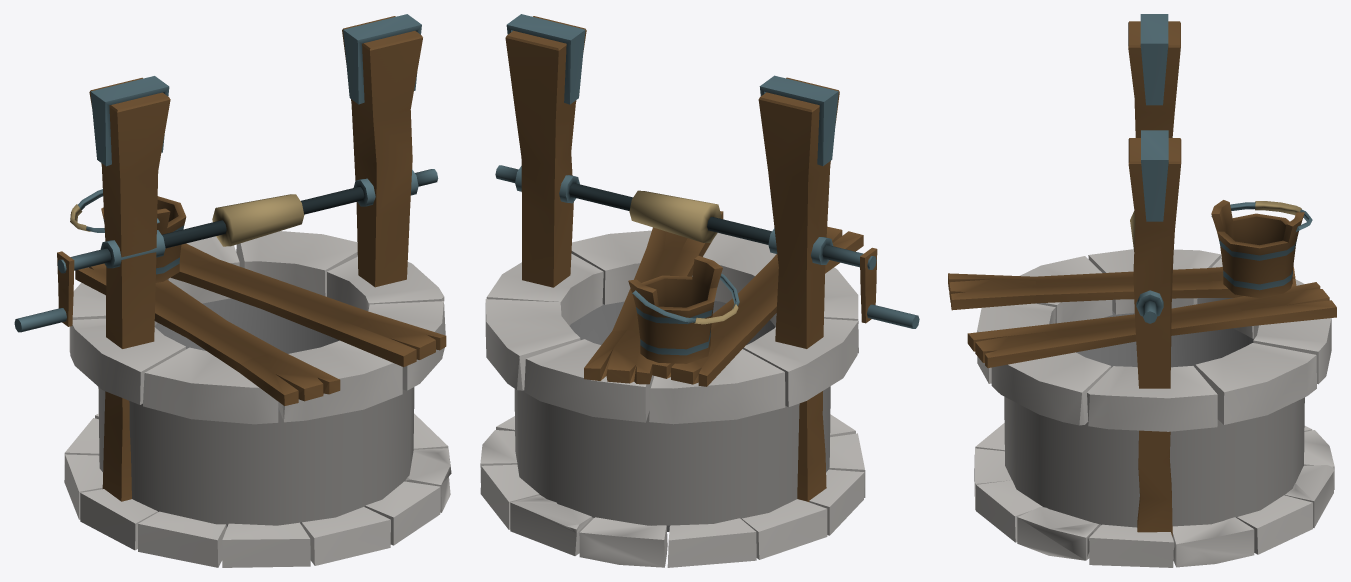
Rendered from obj_well_LOW.FBX.
3 views of the same model, side by side, from view 1: azimuth 30°, elevation 25°; view 2: azimuth 150°, elevation 25°; view 3: azimuth 270°, elevation 25° (orthographic). The views are drawn at different scales.
Visible parts, largest first — view 1: obj_well_LOW; view 2: obj_well_LOW; view 3: obj_well_LOW.
Boxes of the visible parts, bbox=[...] form: obj_well_LOW: bbox=[14, 14, 451, 567]; obj_well_LOW: bbox=[480, 14, 919, 567]; obj_well_LOW: bbox=[948, 14, 1336, 567].
Bounding box in the file's own units: 5.84 × 5.77 × 5.01.
